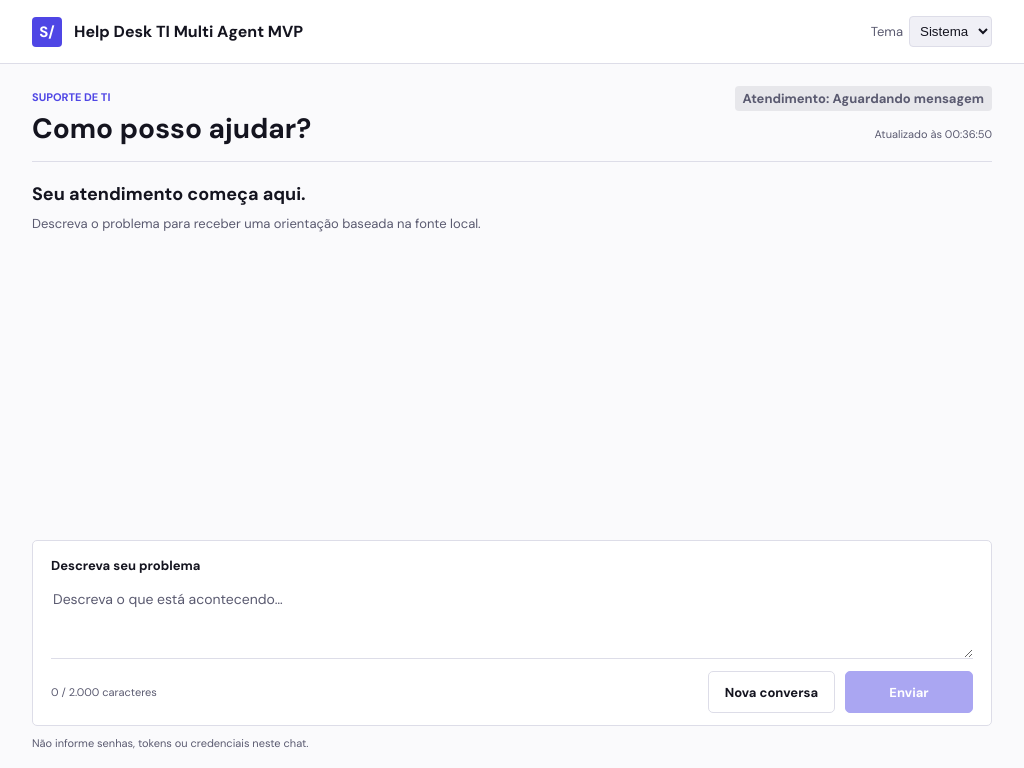
Test case: requires an explicit warning acknowledgment before restarting an uncertain ticket
The width and height of the screenshot is (1024, 768).
(page scrolled)
Type "Preciso de ajuda para acessar minha conta." into the text box labelled "Descreva seu problema" at (512, 622), box [51, 586, 973, 658]
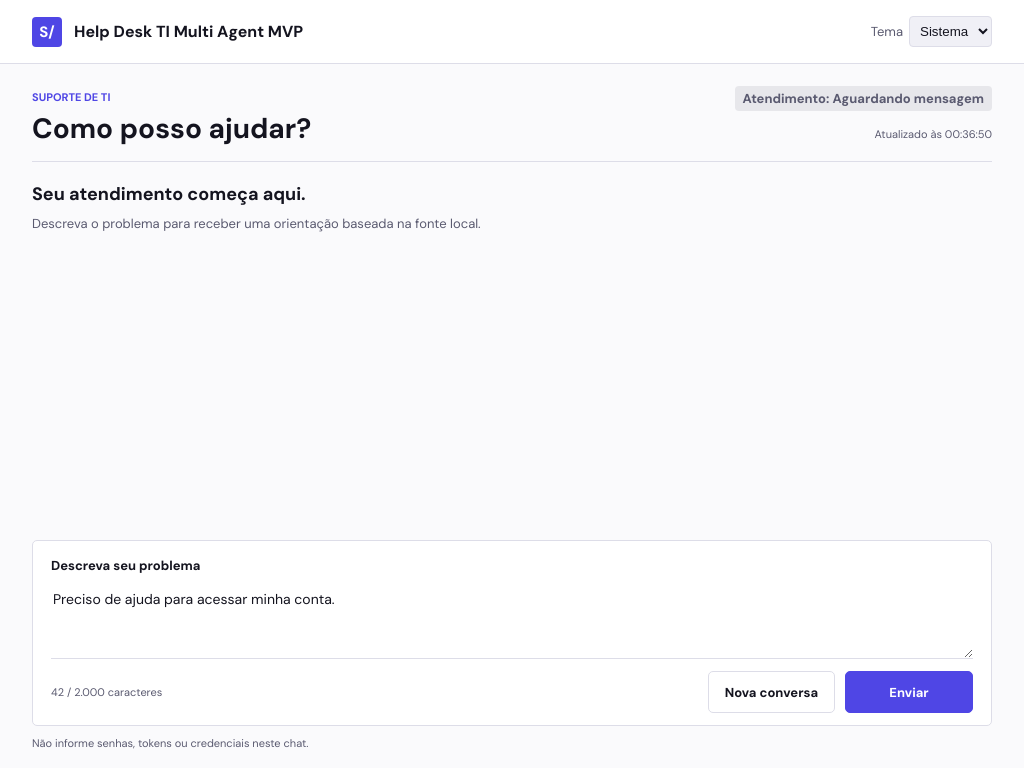
Click the button "Enviar" at (909, 692), box [845, 671, 973, 713]
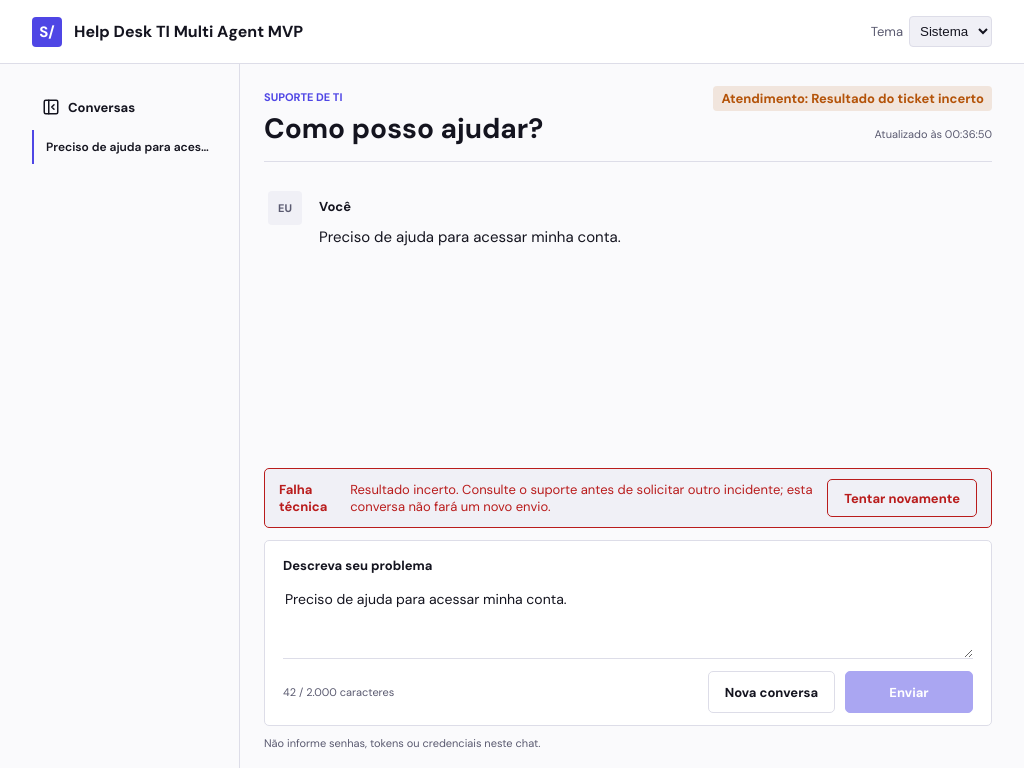
Click the button "Nova conversa" at (771, 692), box [708, 671, 835, 713]
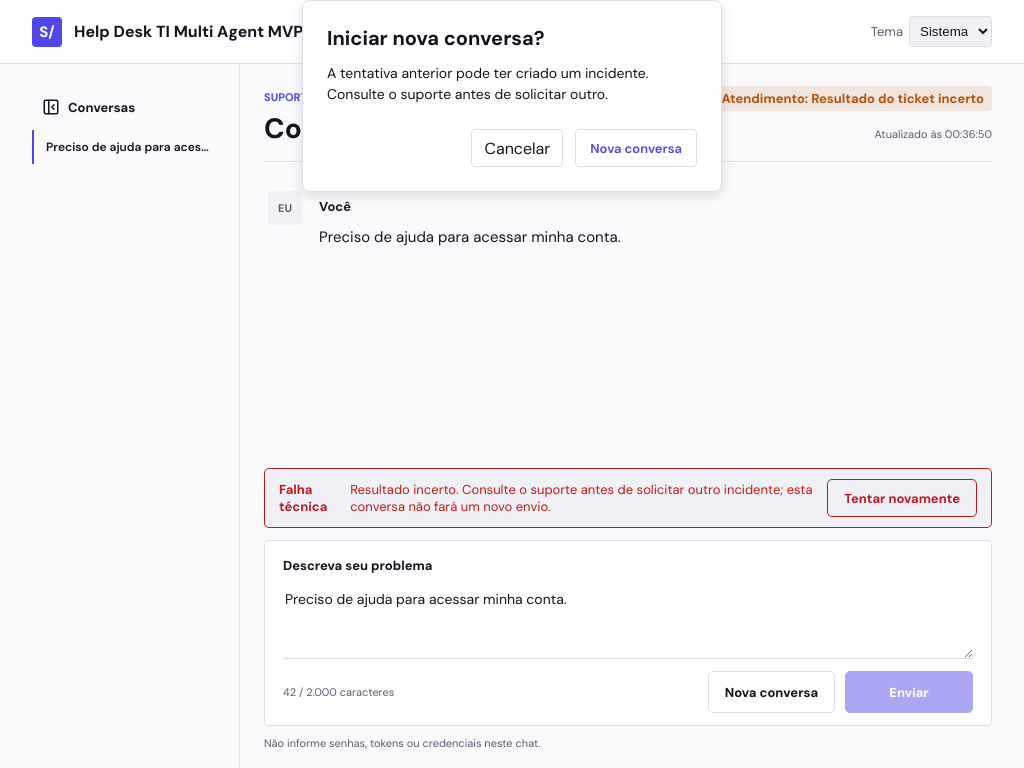
Check: the text "Consulte o suporte" is shown, box [327, 64, 648, 103]
Click the button "Cancelar" at (517, 148), box [472, 129, 563, 167]
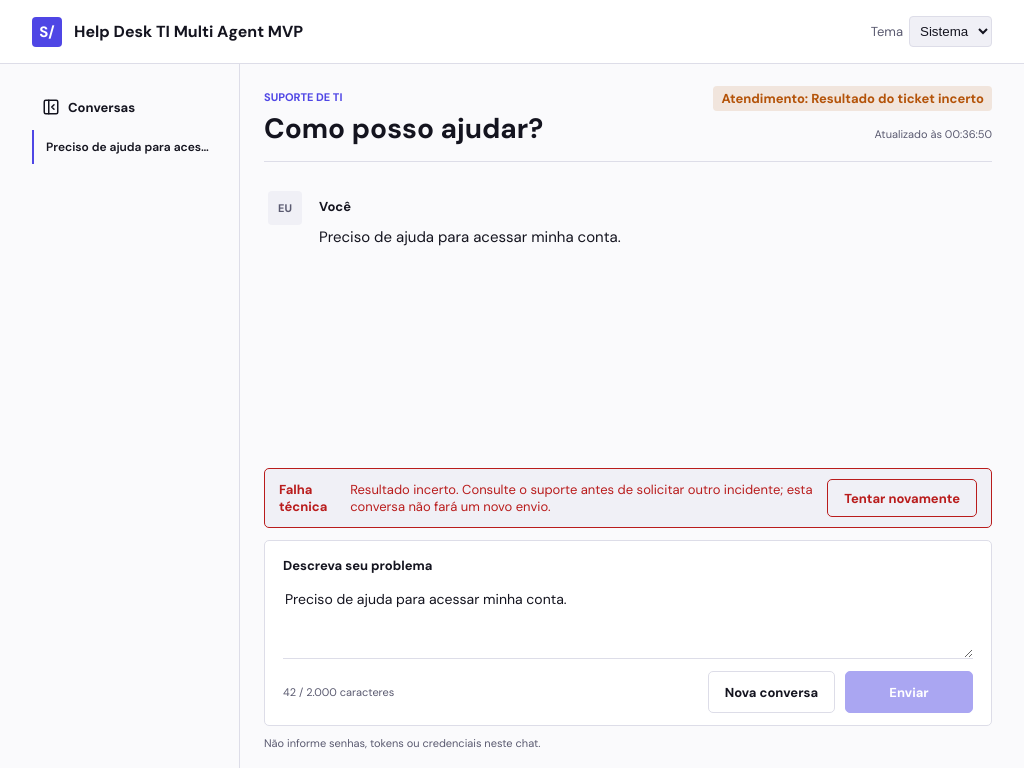
Check: the button "Enviar" is disabled, box [845, 671, 973, 713]
Click the button "Nova conversa" at (771, 692), box [708, 671, 835, 713]
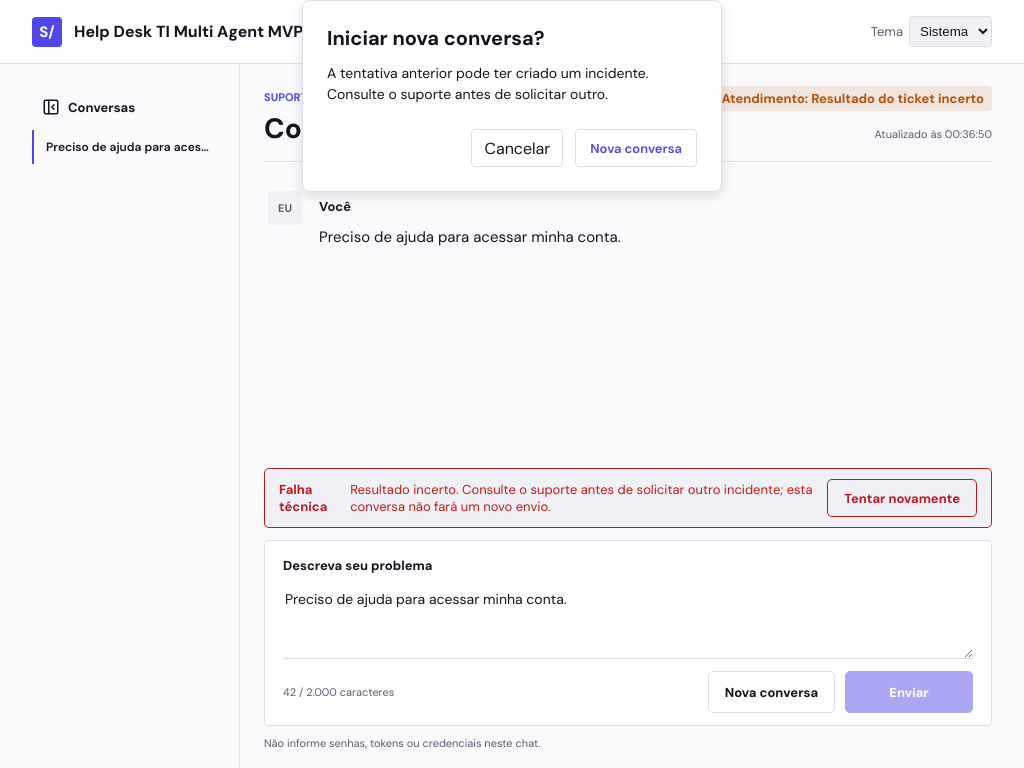
Click the button "Nova conversa" below "Iniciar nova conversa?" at (636, 148), box [575, 129, 697, 167]
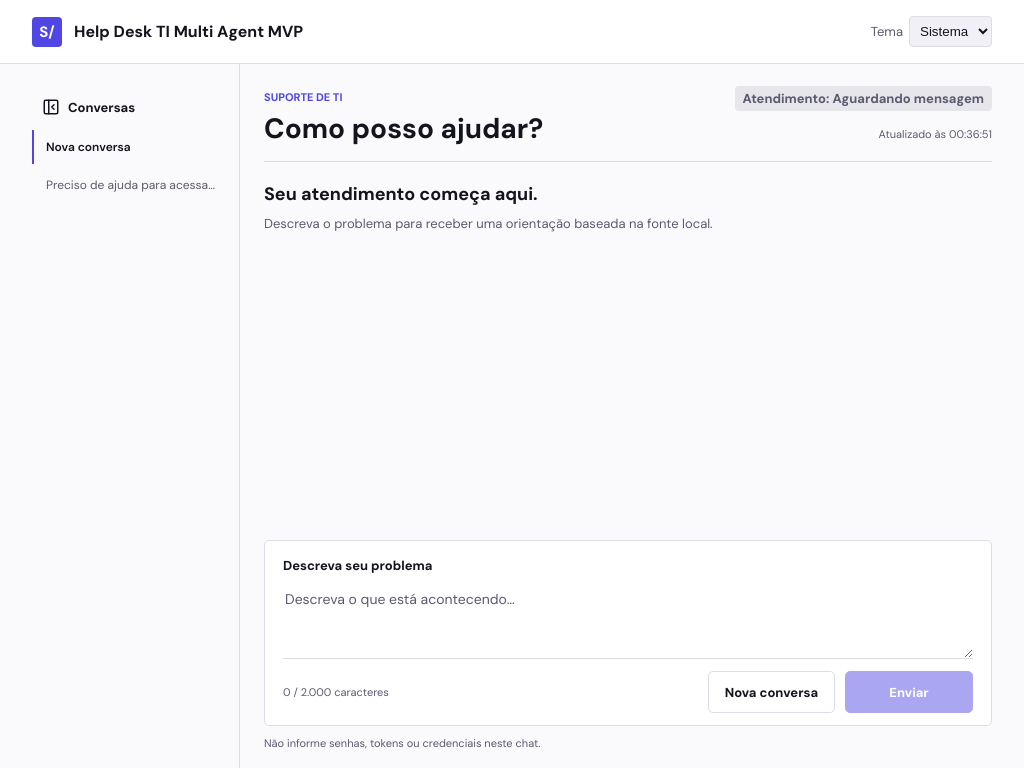
Check: the text "Atendimento: Aguardando mensagem" is shown, box [735, 86, 992, 111]
